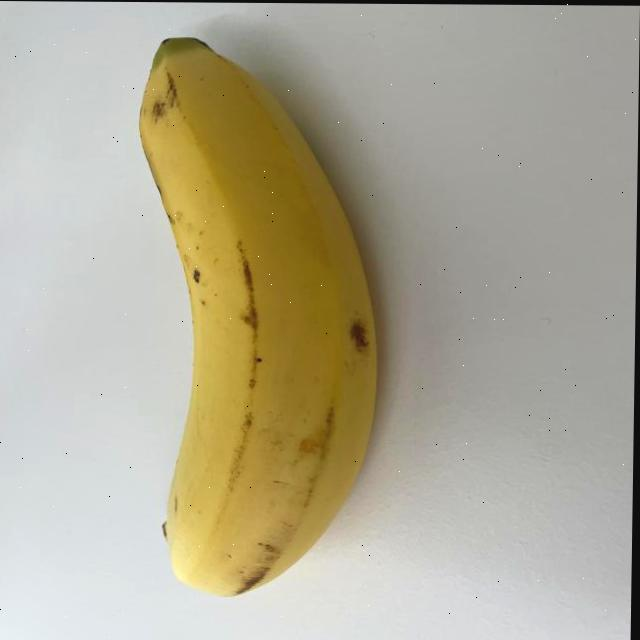banana: (122, 32, 387, 599)
